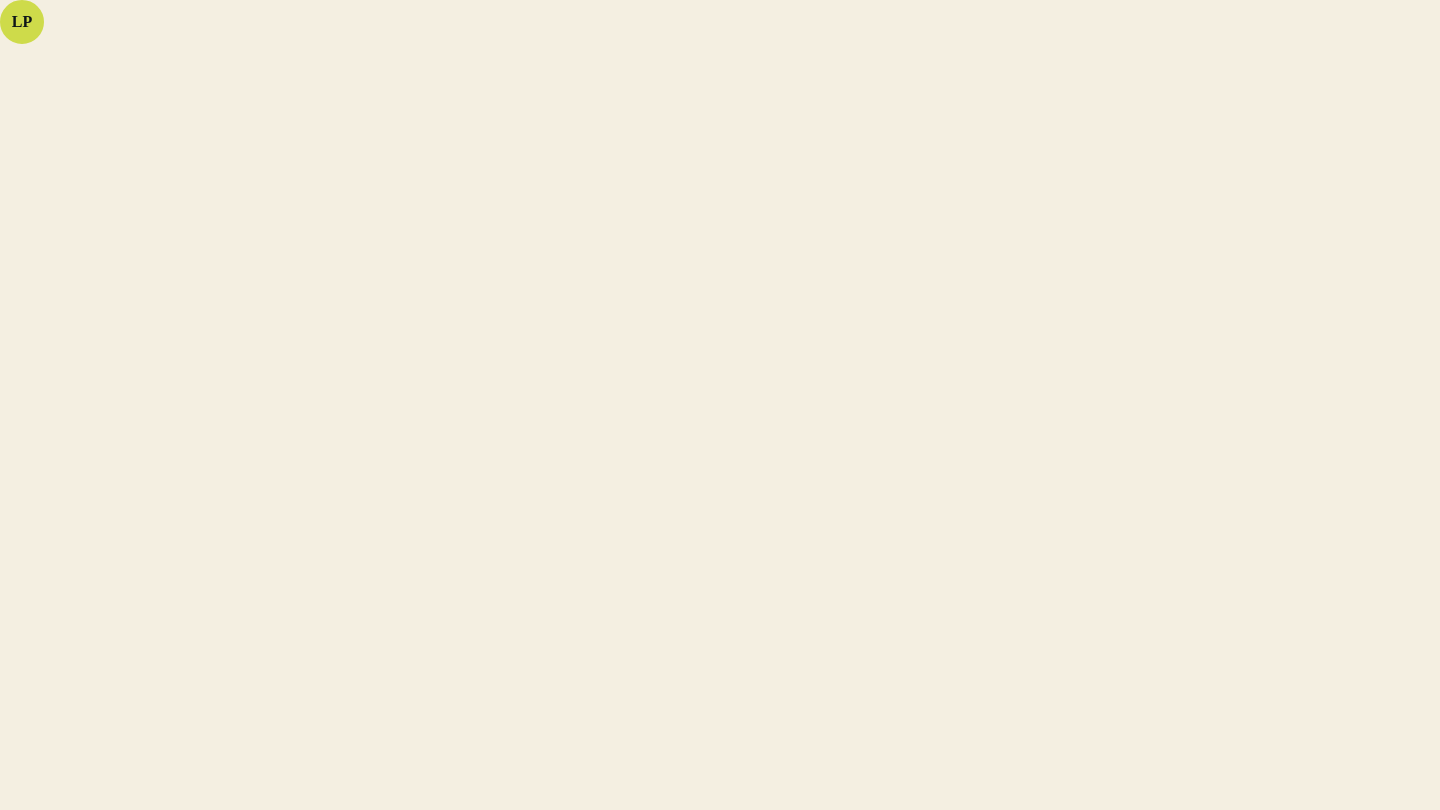
Drawer › the avatar opens it, locks page scroll and moves focus inside
Click the button with class "avatar-button" at (22, 22), box [0,0,44,44]
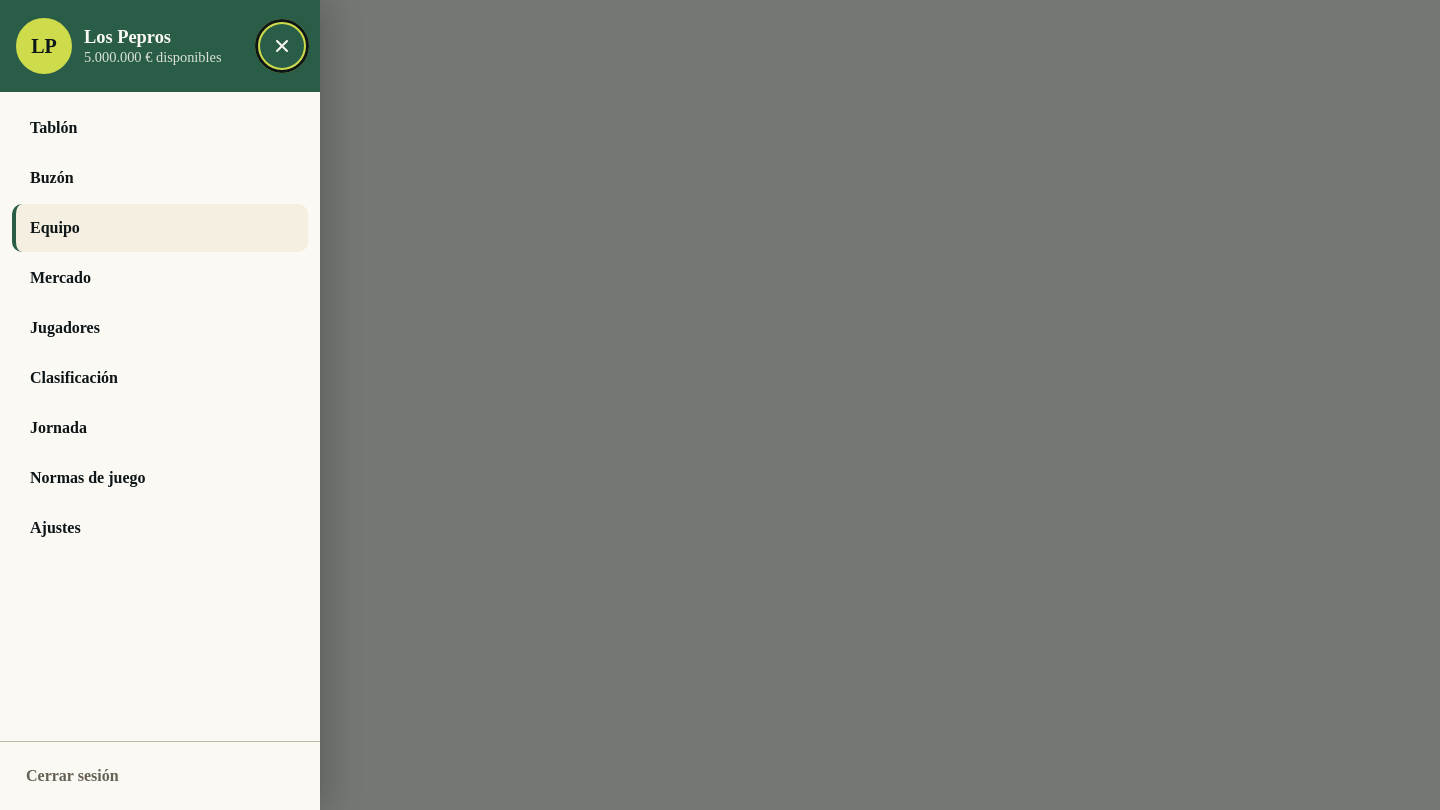
Result: the button with class "avatar-button" is expanded at [0,0,44,44]
